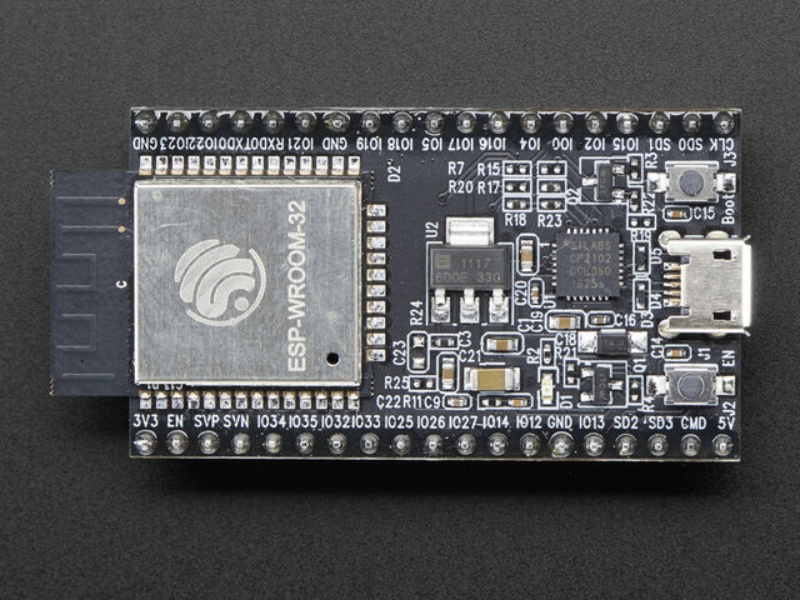esp32: (26, 55, 774, 480)
